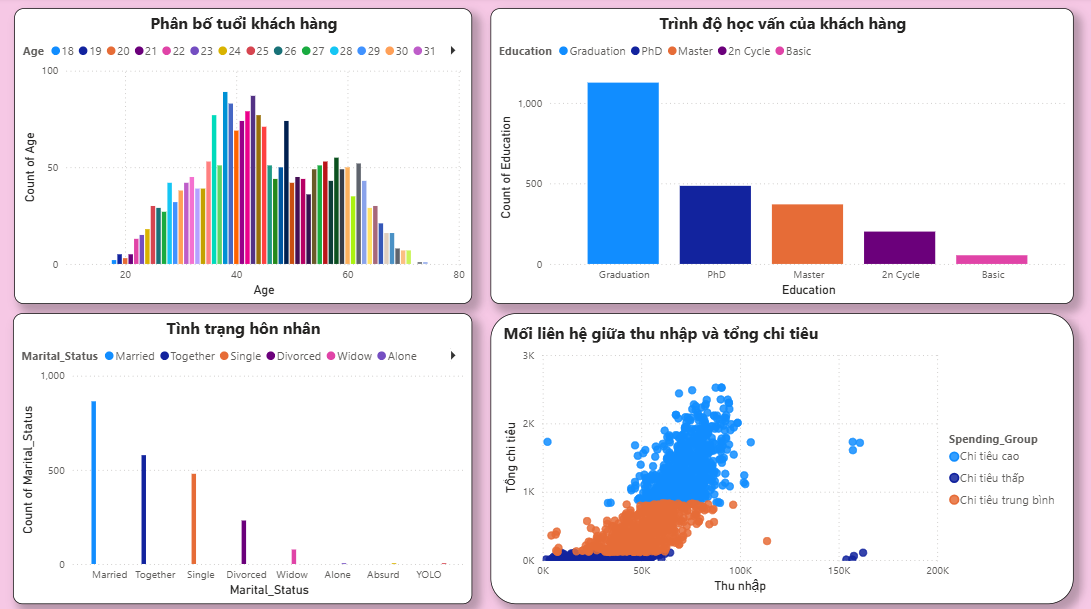

What the dashboard file says about the page in this screenshot:
{"tool":"powerbi","page":{"name":"Hồ sơ khách hàng","canvas":[1280,720],"ordinal":1},"visuals":[{"type":"columnChart","title":"Phân bố tuổi khách hàng","fields":{"Category":["Marketing_end.Age"],"Series":["Marketing_end.Age"],"Y":["CountNonNull(Marketing_end.Age)"]},"box":[19.2,13.7,535.2,345.8],"z":0},{"type":"columnChart","title":"Trình độ học vấn của khách hàng","fields":{"Category":["Marketing_end.Education"],"Series":["Marketing_end.Education"],"Y":["CountNonNull(Marketing_end.Education)"]},"box":[575,13.7,682,345.8],"z":1000},{"type":"clusteredColumnChart","title":"Tình trạng hôn nhân","fields":{"Category":["Marketing_end.Marital_Status"],"Series":["Marketing_end.Marital_Status"],"Y":["CountNonNull(Marketing_end.Marital_Status)"]},"box":[17.1,370,537.1,340],"z":2000},{"type":"scatterChart","title":"Mối liên hệ giữa thu nhập và tổng chi tiêu","fields":{"Category":["Marketing_end.ID"],"Series":["Marketing_end.Spending_Group"],"X":["Avg(Marketing_end.Income)"],"Y":["Avg(Marketing_end.Spent)"]},"box":[575,370,682,340],"z":3000}]}

Visuals, with their boxes in screenshot pixels (x1, y1, x2, y2), scaled from the page's 1280x720 canvas onto the 1091x609 screenshot:
"Phân bố tuổi khách hàng" columnChart: crop(16, 12, 473, 304)
"Trình độ học vấn của khách hàng" columnChart: crop(490, 12, 1071, 304)
"Tình trạng hôn nhân" clusteredColumnChart: crop(15, 313, 472, 601)
"Mối liên hệ giữa thu nhập và tổng chi tiêu" scatterChart: crop(490, 313, 1071, 601)
